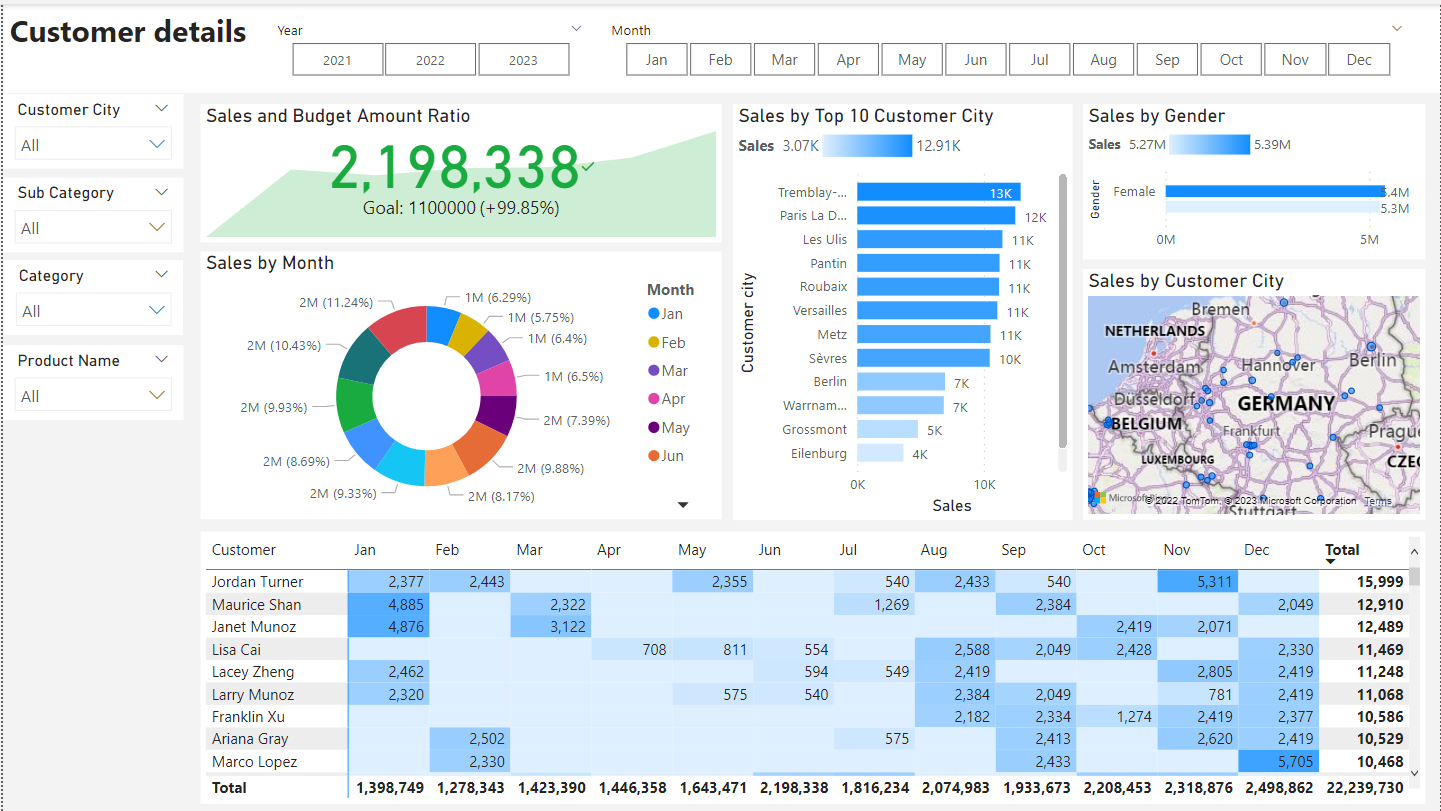

Layout of this report page (visuals, bound fields, positions):
{"tool":"powerbi","page":{"name":"Customer_details","canvas":[1280,720],"ordinal":1},"visuals":[{"type":"textbox","box":[1.4,0,1278.9,79.6],"z":0},{"type":"slicer","fields":{"Values":["DIM_customer.Customer City"]},"box":[0,79.6,160.4,66.3],"z":1000},{"type":"slicer","fields":{"Values":["DIM_product.Sub Category"]},"box":[0,154.4,160.4,66.3],"z":2000},{"type":"slicer","fields":{"Values":["DIM_product.Product Category"]},"box":[1.2,227.9,159.2,66.3],"z":3000},{"type":"slicer","fields":{"Values":["DIM_product.Product Name"]},"box":[0,303.9,160.4,66.3],"z":4000},{"type":"slicer","fields":{"Values":["DIM_calendar.Year"]},"box":[231.9,9.6,296.4,60.4],"z":5000},{"type":"slicer","fields":{"Values":["DIM_calendar.MonthShort"]},"box":[528.3,9.6,730,60.4],"z":6000},{"type":"kpi","title":"Sales and Budget Amount Ratio","fields":{"Indicator":["Key Measurements.Sales"],"TrendLine":["DIM_calendar.MonthShort"],"Goal":["Key Measurements.Budget amount"]},"box":[176.1,89.2,464.3,123],"z":7000},{"type":"donutChart","fields":{"Y":["Key Measurements.Sales"],"Category":["DIM_calendar.MonthShort"]},"box":[176.1,220.7,464.3,238.8],"z":8000},{"type":"barChart","title":"Sales by Top 10 Customer City","fields":{"Y":["Key Measurements.Sales"],"Category":["DIM_customer.Customer City"]},"box":[650.1,89.2,302.7,370.3],"z":9000},{"type":"barChart","title":"Sales by Gender","fields":{"Y":["Key Measurements.Sales"],"Category":["DIM_customer.Gender"]},"box":[961.2,89.2,305.1,138.7],"z":10000},{"type":"pivotTable","fields":{"Rows":["DIM_customer.Full Name"],"Values":["Key Measurements.Sales"],"Columns":["DIM_calendar.MonthShort"]},"box":[176.1,469.1,1090.3,242.4],"z":11000},{"type":"map","fields":{"Category":["DIM_customer.Customer City"],"Size":["Key Measurements.Sales"]},"box":[961.2,236.4,305.1,223.1],"z":11001}]}

Visuals, with their boxes in screenshot pixels (x1, y1, x2, y2), scaled from the page's 1280x720 canvas onto the 1441x811 screenshot:
textbox: Rect(2, 0, 1440, 90)
slicer - DIM_customer.Customer City: Rect(0, 90, 181, 164)
slicer - DIM_product.Sub Category: Rect(0, 174, 181, 249)
slicer - DIM_product.Product Category: Rect(1, 257, 181, 331)
slicer - DIM_product.Product Name: Rect(0, 342, 181, 417)
slicer - DIM_calendar.Year: Rect(261, 11, 595, 79)
slicer - DIM_calendar.MonthShort: Rect(595, 11, 1417, 79)
"Sales and Budget Amount Ratio" kpi: Rect(198, 100, 721, 239)
donutChart - Key Measurements.Sales x DIM_calendar.MonthShort: Rect(198, 249, 721, 518)
"Sales by Top 10 Customer City" barChart: Rect(732, 100, 1073, 518)
"Sales by Gender" barChart: Rect(1082, 100, 1426, 257)
pivotTable - DIM_customer.Full Name x Key Measurements.Sales: Rect(198, 528, 1426, 801)
map - DIM_customer.Customer City x Key Measurements.Sales: Rect(1082, 266, 1426, 518)
